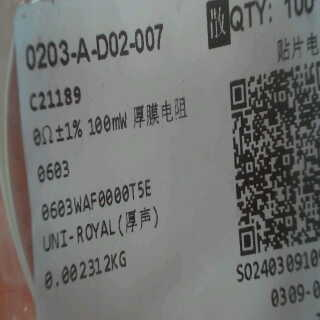0R: (30, 113, 86, 187)
